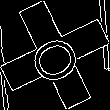O_NE: (23, 24, 87, 86)
